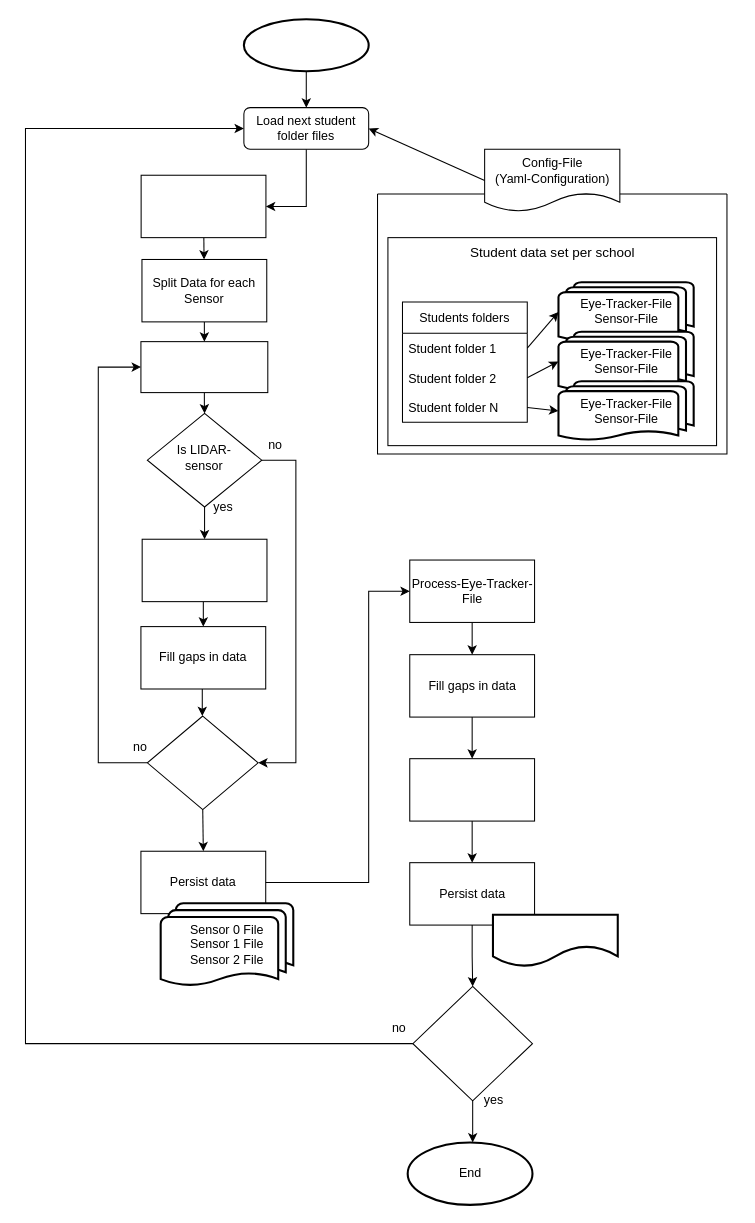
Image size: 755x1223. Some labels were removed from this diagram. Each missing label, with the centre of its shape:
(new) Eye Tracker-File: point (554, 940)
All folder prepared: point (472, 1043)
All sensor data prepared: point (202, 762)
Create-Artificial-Index: point (204, 570)
Link Eye-Tracker-Entries with Sensor-Entries: point (472, 789)
Process Sensor-Data: point (204, 367)
Process-Sensor-File: point (203, 206)
Start: point (305, 45)
